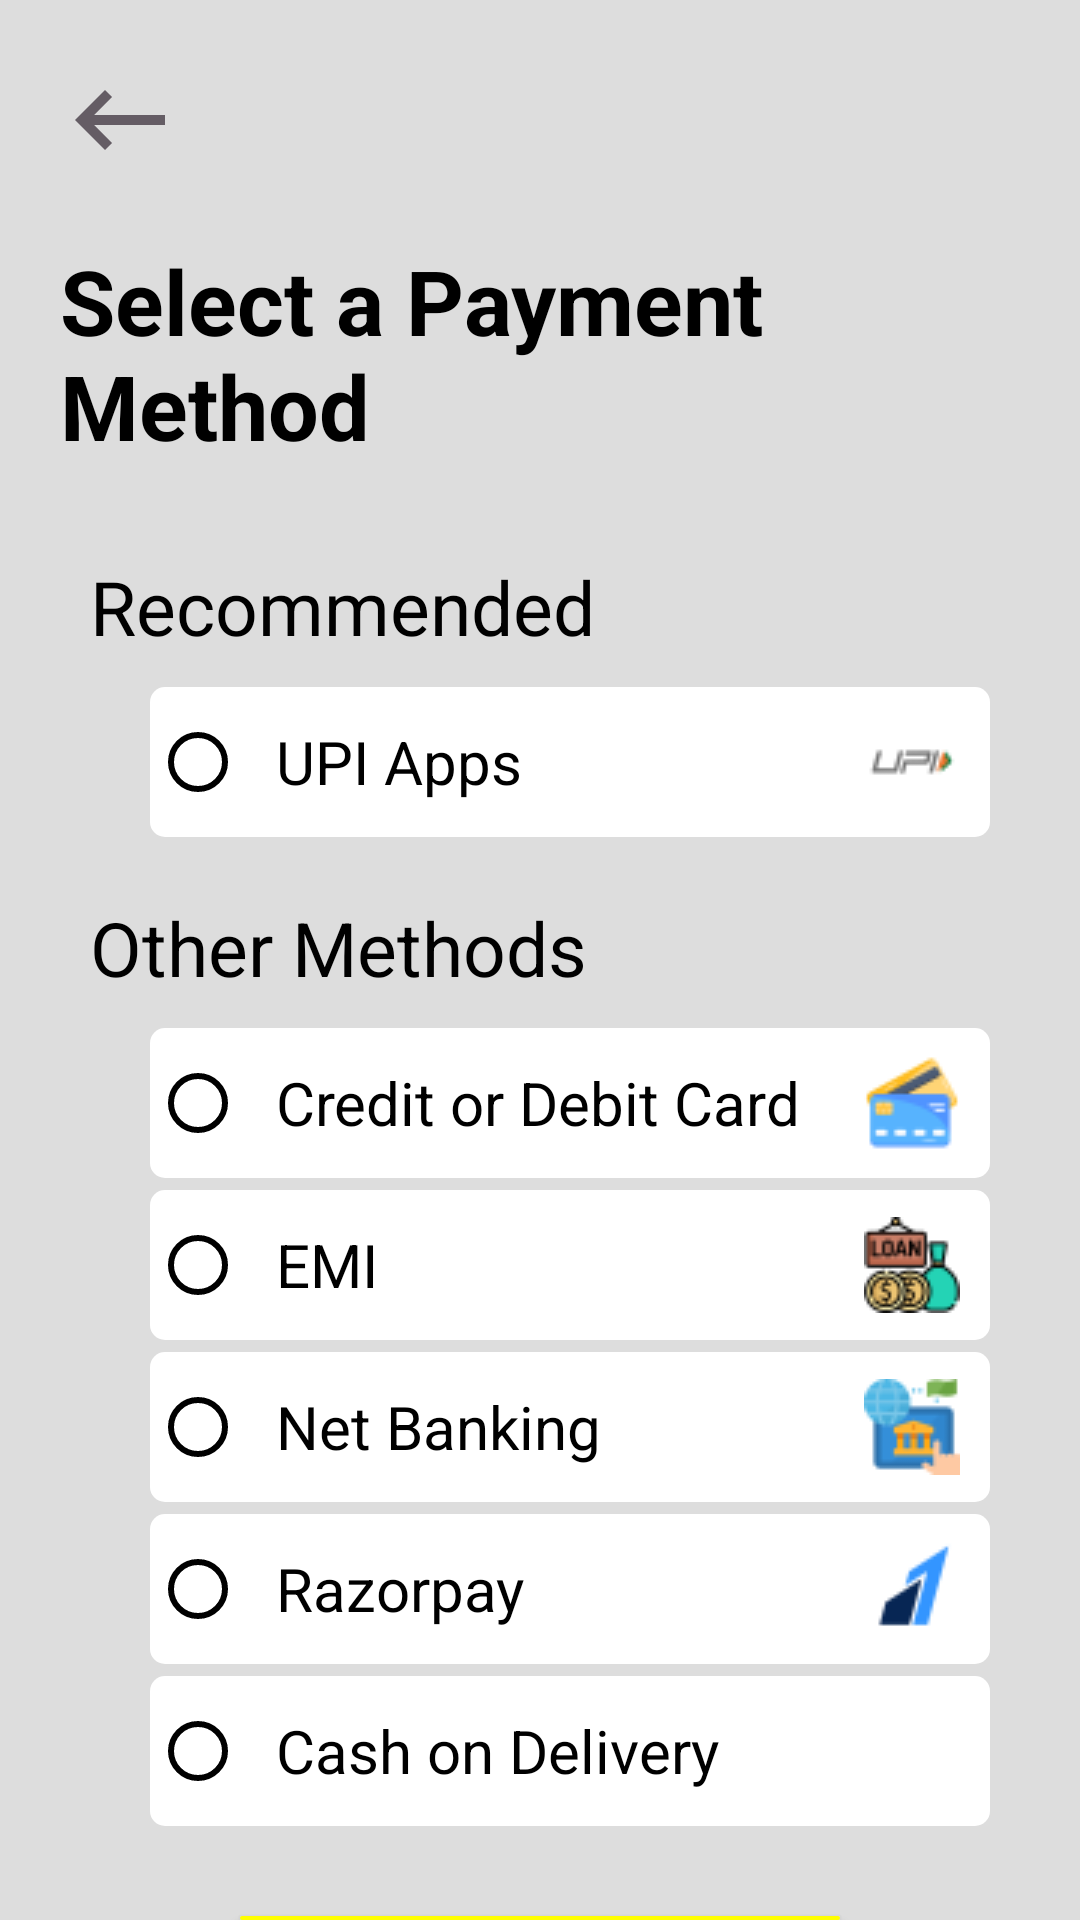

Named icons in this screenshot (1080x1920) and their centers, [x,y]:
keyboard backspace: [120,120]
